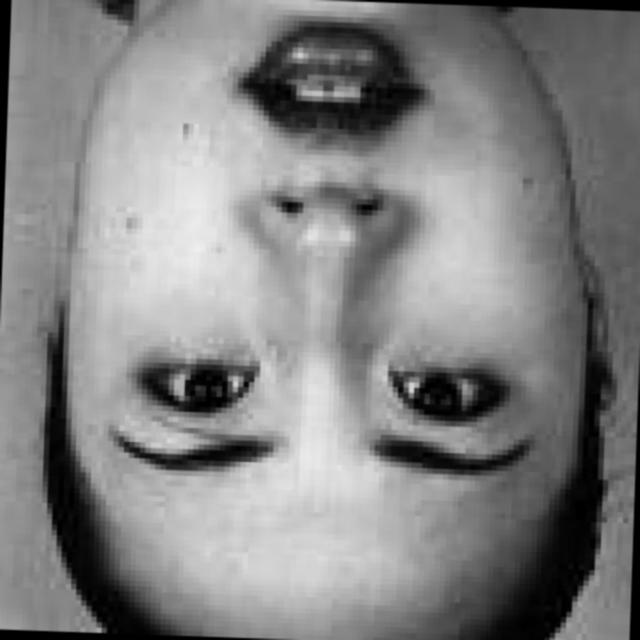fear: (67, 0, 569, 601)
